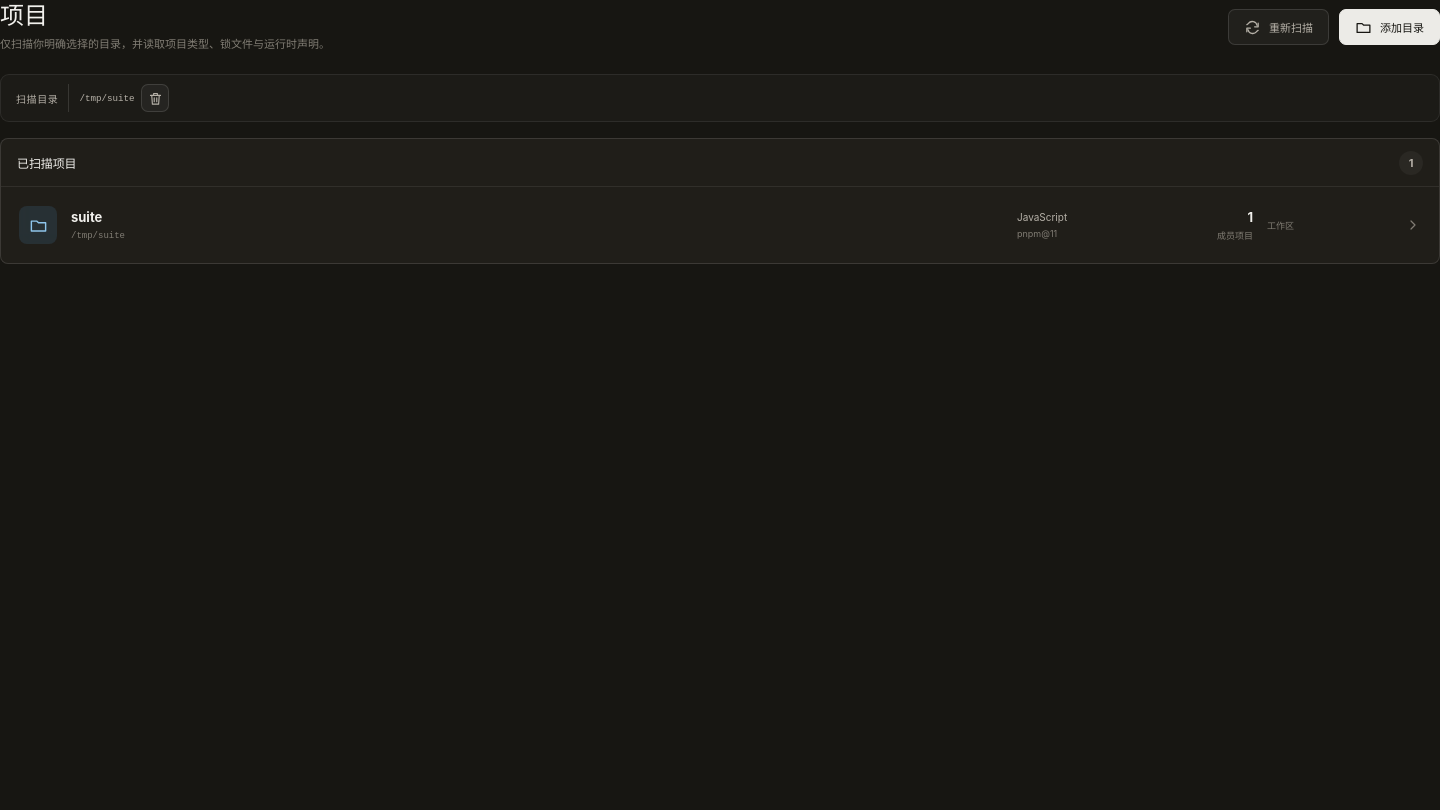
Test case: ProjectsPage › 将工作区聚合为一个项目并在详情展示成员
The image size is (1440, 810).
Click the button with aria-label "查看项目 suite" at (38, 225), box top-left (1, 187), bottom-right (1439, 263)
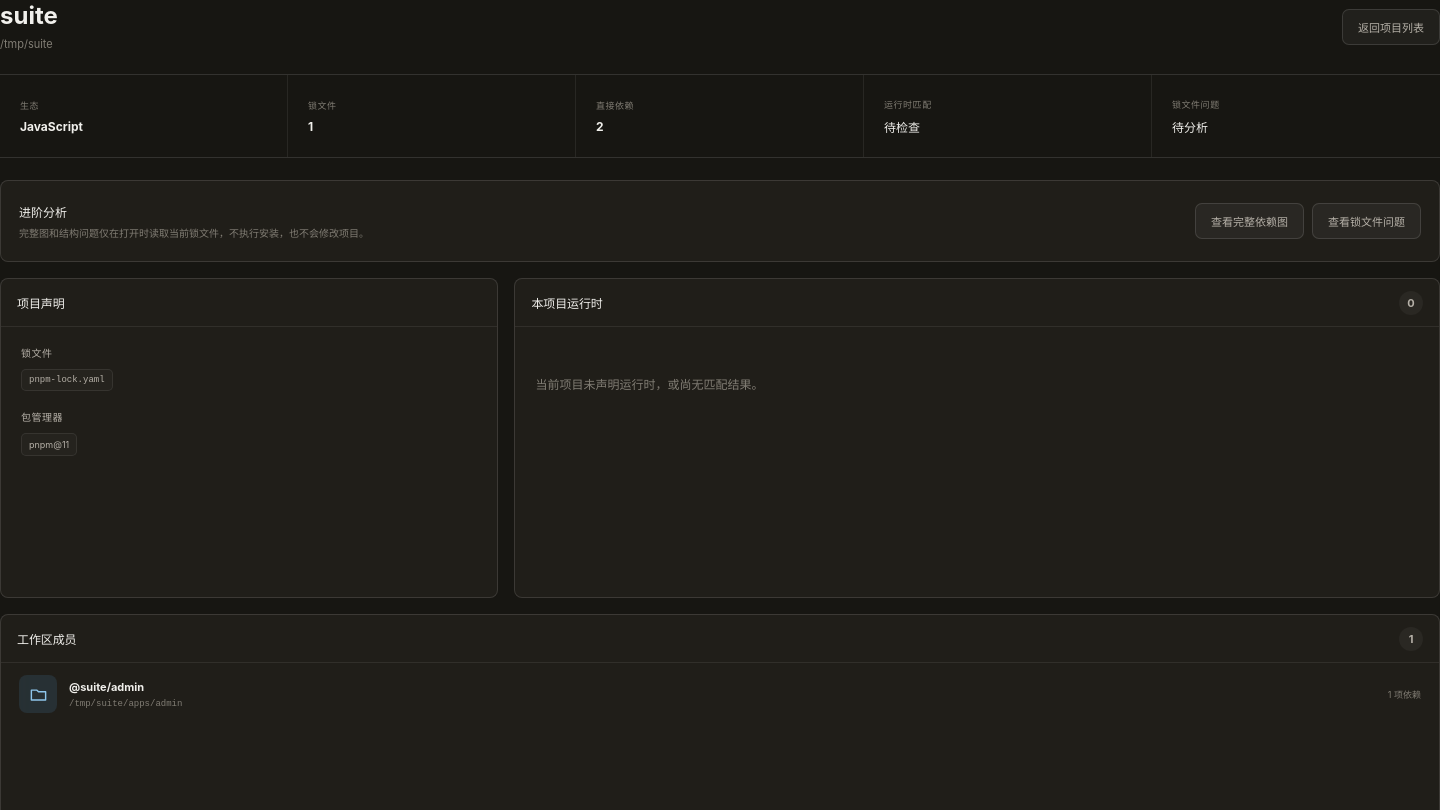
Check: the heading "工作区成员" is shown, box top-left (17, 630), bottom-right (76, 647)
Check: the text "@suite/admin" is shown, box top-left (69, 680), bottom-right (144, 694)
